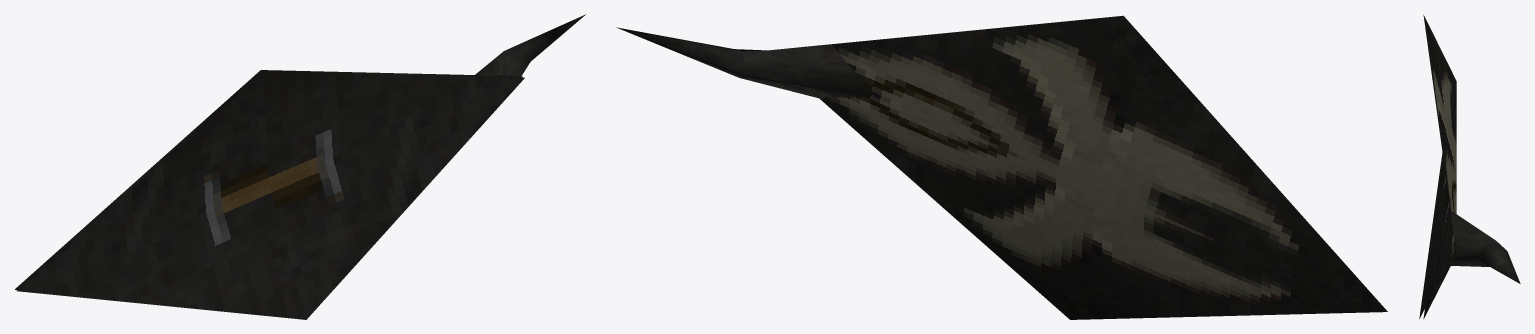
3 renders of one model, left to right at view 1: azimuth 30°, elevation 25°; view 2: azimuth 150°, elevation 25°; view 3: azimuth 270°, elevation 25°, orthographic. The views are drawn at different scales.
Parts seen in each view (by area): view 1: IT222_DMSPRITEDEF_node; view 2: IT222_DMSPRITEDEF_node; view 3: IT222_DMSPRITEDEF_node.
Part boxes in pixels (box(x1,y1,x2,y2)): IT222_DMSPRITEDEF_node: box(15, 14, 585, 319); IT222_DMSPRITEDEF_node: box(616, 15, 1387, 319); IT222_DMSPRITEDEF_node: box(1419, 15, 1520, 318).
Size of the model in its own units: 3.61 by 1.48 by 0.4836.
2 materials, 2 textured.
